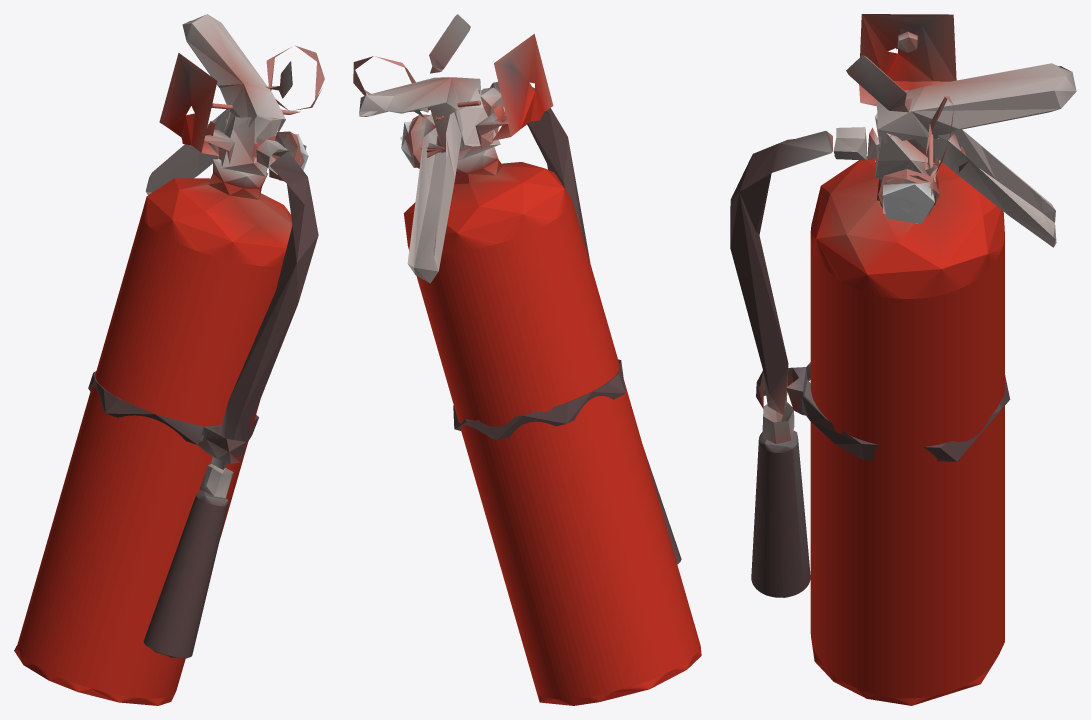
File: extinguisher.glb
3 renders of one model, left to right at view 1: azimuth 30°, elevation 25°; view 2: azimuth 150°, elevation 25°; view 3: azimuth 270°, elevation 25°, orthographic. The views are drawn at different scales.
Visible parts, largest first — view 1: geometry_0; view 2: geometry_0; view 3: geometry_0.
Boxes of the visible parts, x1,y1,x2,y2 form: geometry_0: (14,14,324,705); geometry_0: (353,14,701,705); geometry_0: (730,14,1076,705).
Size of the model in its own units: 0.797 by 1.48 by 0.6517.
